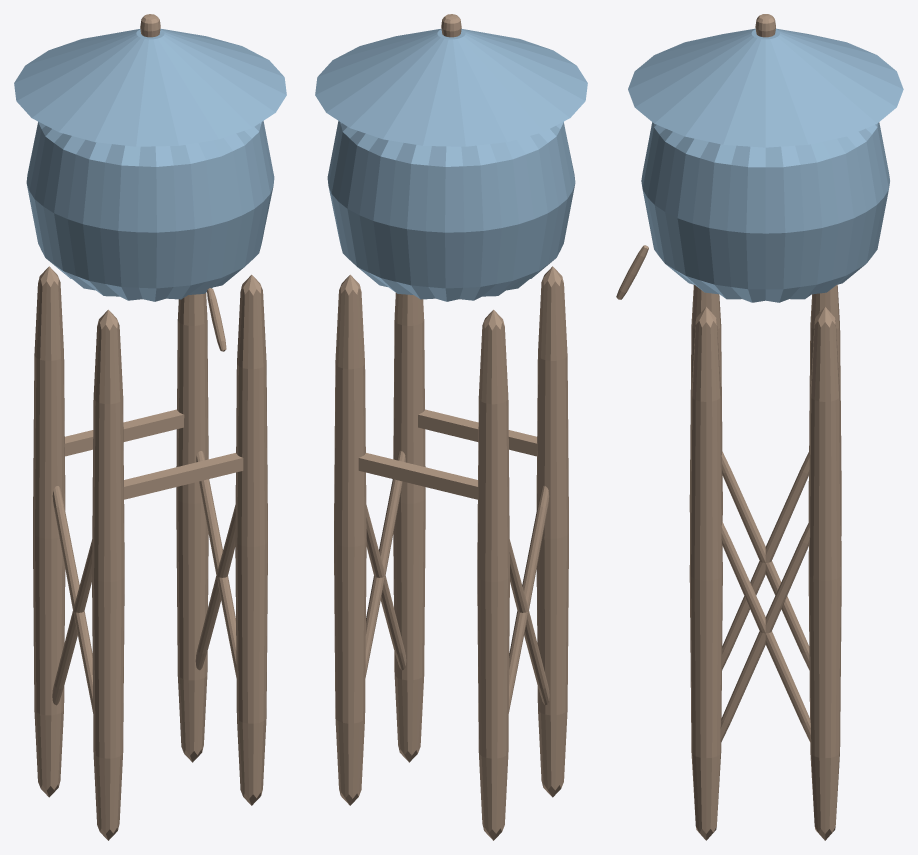
The model's file is caixa_dagua.glb.
The picture shows the model from 3 angles, left to right: view 1: azimuth 30°, elevation 25°; view 2: azimuth 150°, elevation 25°; view 3: azimuth 270°, elevation 25°; orthographic projection.
Visible parts, largest first — view 1: CaixaDagua; view 2: CaixaDagua; view 3: CaixaDagua.
Boxes of the visible parts, x1,y1,x2,y2 form: CaixaDagua: (14,14,286,840); CaixaDagua: (315,14,587,840); CaixaDagua: (616,14,903,840).
Bounding box in the file's own units: 1.16 × 3.67 × 1.21.
